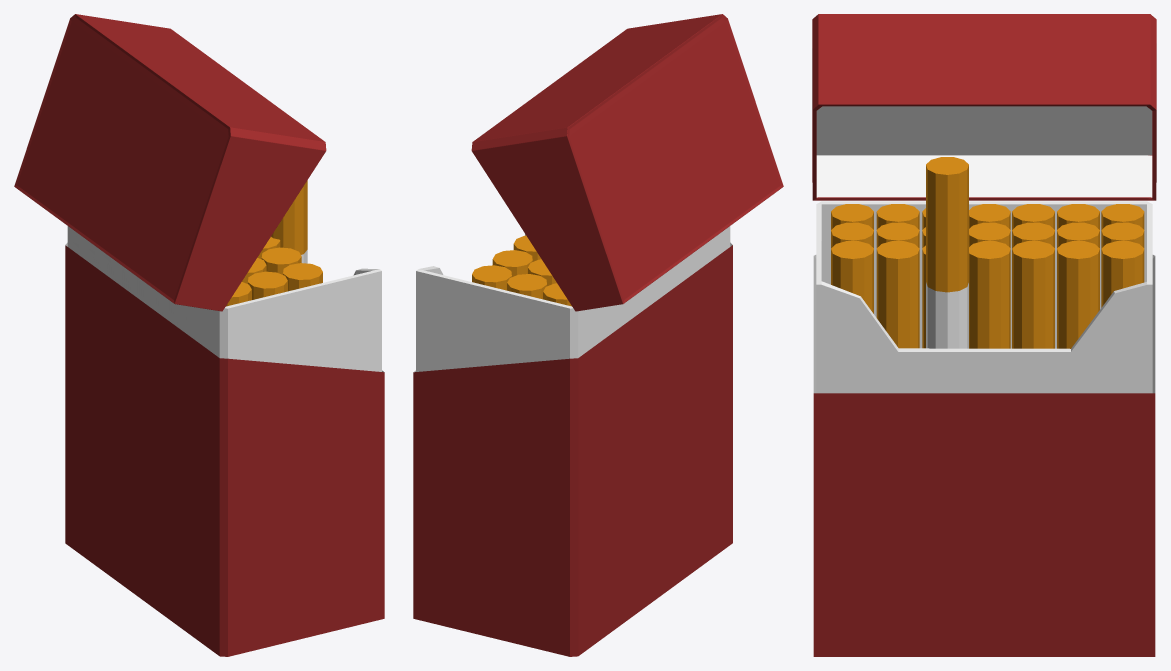
File: Cigarettes.fbx
3 views of the same model, side by side, from view 1: azimuth 30°, elevation 25°; view 2: azimuth 150°, elevation 25°; view 3: azimuth 270°, elevation 25° (orthographic). The views are drawn at different scales.
Parts seen in each view (by area): view 1: Cigarettes; view 2: Cigarettes; view 3: Cigarettes.
Boxes of the visible parts, bbox=[...] form: Cigarettes: bbox=[14, 14, 384, 656]; Cigarettes: bbox=[413, 14, 783, 656]; Cigarettes: bbox=[812, 14, 1156, 656].
Size of the model in its own units: 1.73 by 4.14 by 2.29.
